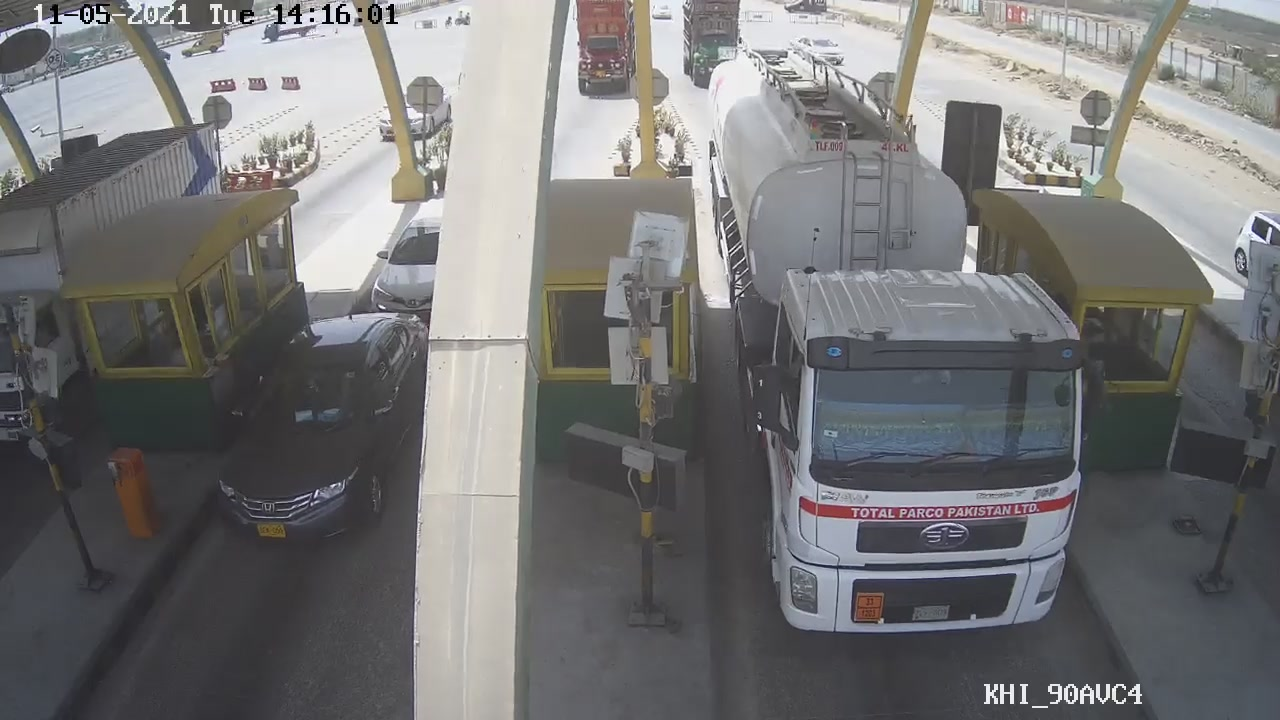F6: (700, 46, 1079, 637)
